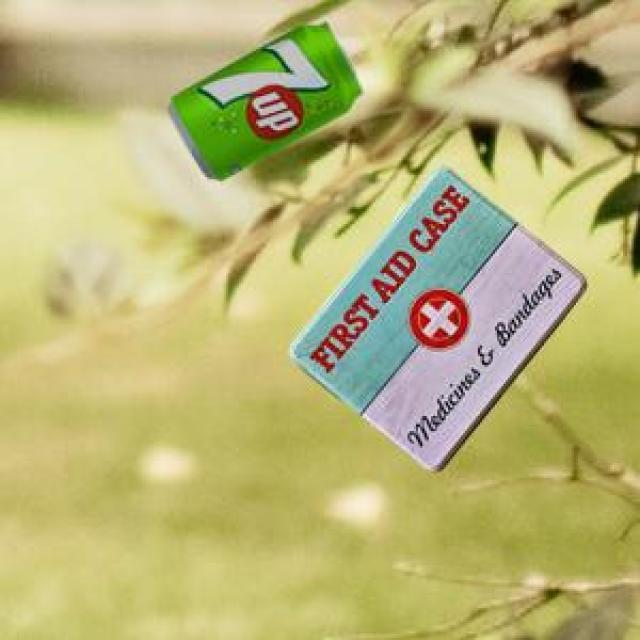Can: (287, 165, 583, 468), (165, 20, 359, 176)
